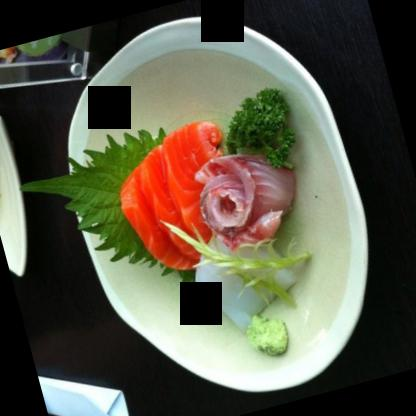salmon: (107, 113, 249, 283)
